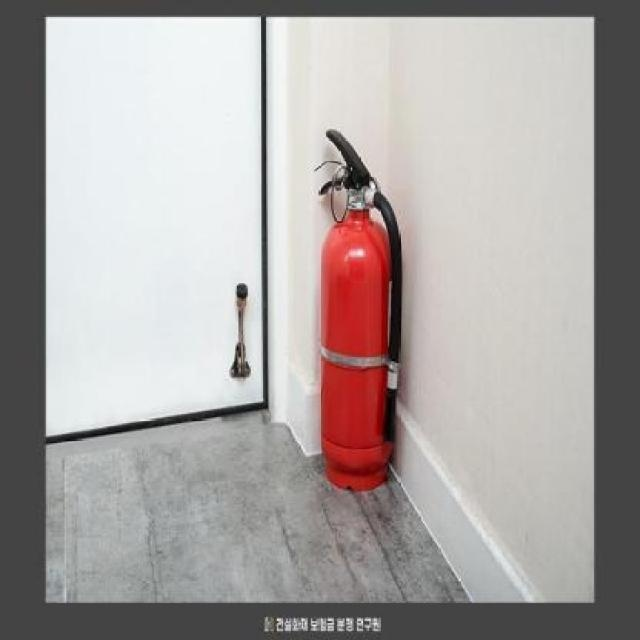fire extinguisher: (314, 127, 401, 491)
